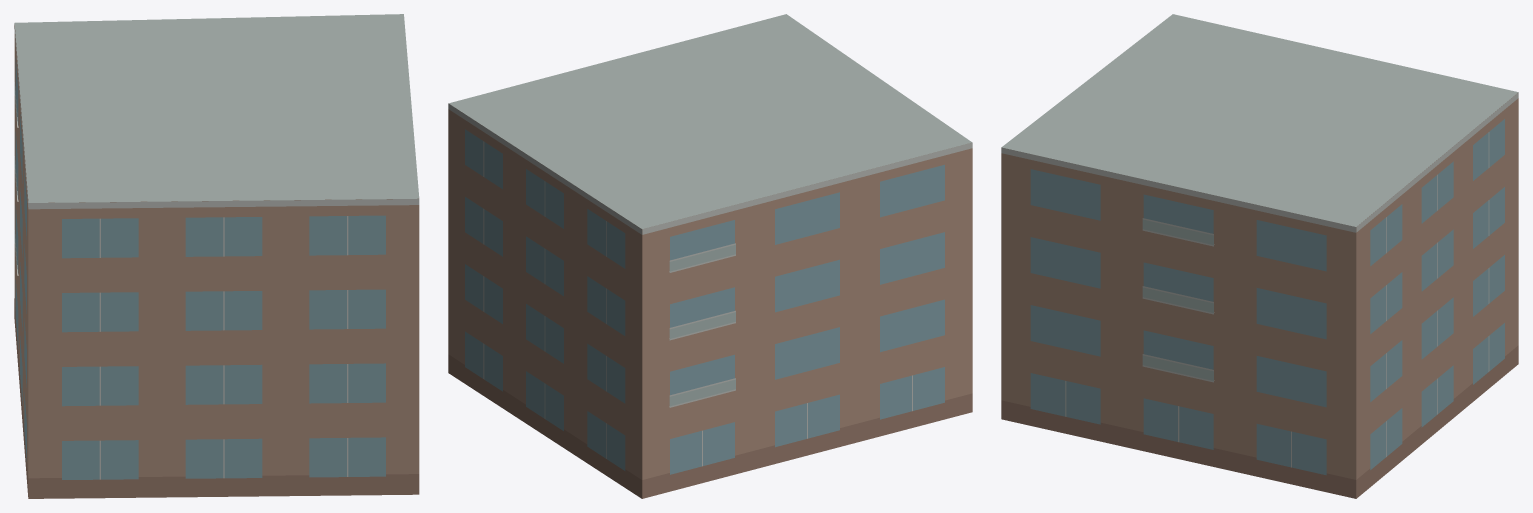
The model's file is survey-upis-32658742.glb.
3 renders of one model, left to right at view 1: azimuth 30°, elevation 25°; view 2: azimuth 150°, elevation 25°; view 3: azimuth 270°, elevation 25°, orthographic. The views are drawn at different scales.
Parts seen in each view (by area): view 1: survey-upis-32658742.tmp; view 2: survey-upis-32658742.tmp; view 3: survey-upis-32658742.tmp.
Part boxes in pixels (x1,y1,x2,y2): survey-upis-32658742.tmp: (14, 14, 419, 498); survey-upis-32658742.tmp: (448, 14, 972, 498); survey-upis-32658742.tmp: (1001, 14, 1518, 498).
Bounding box in the file's own units: 19.34 × 11.5 × 19.84.
